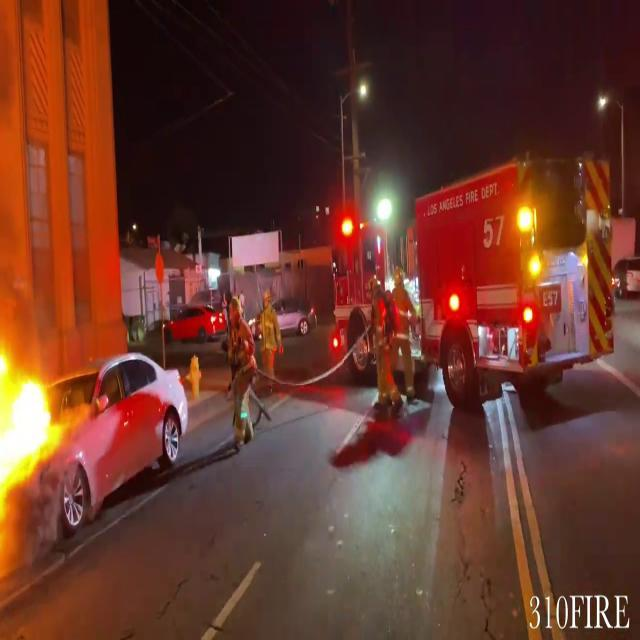Fire: (0, 319, 58, 538)
